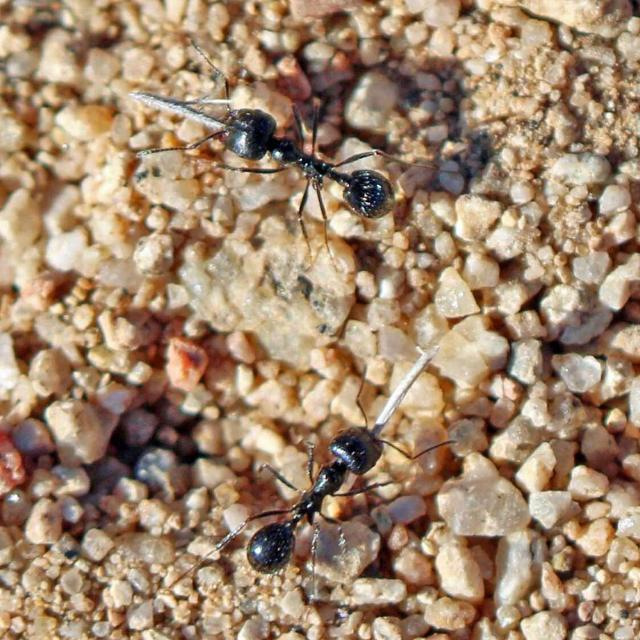Messor: (199, 78, 407, 228), (250, 409, 390, 576)
